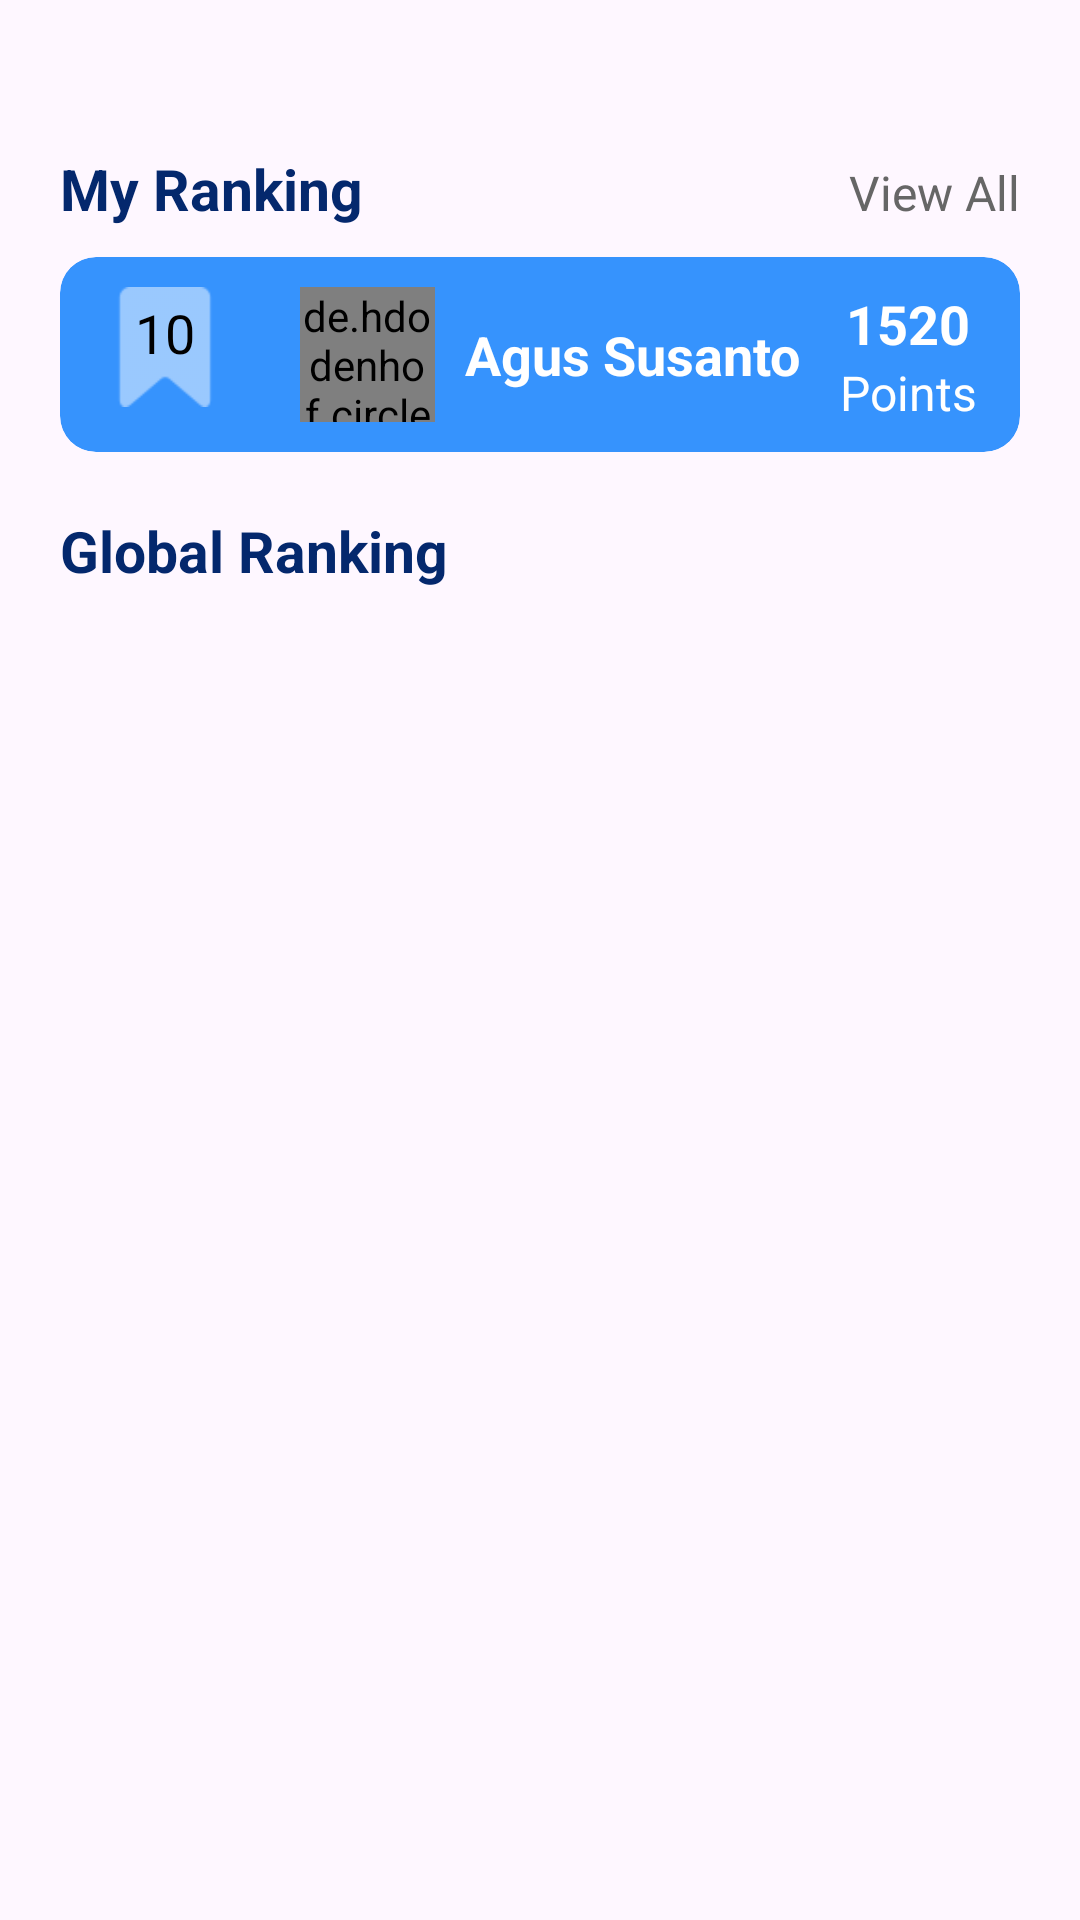

Locate icon controls on the screen. Image size 1080 x 1920, boxes as (x1, y1, x2, y2).
bookmark: (119, 287, 211, 407)
